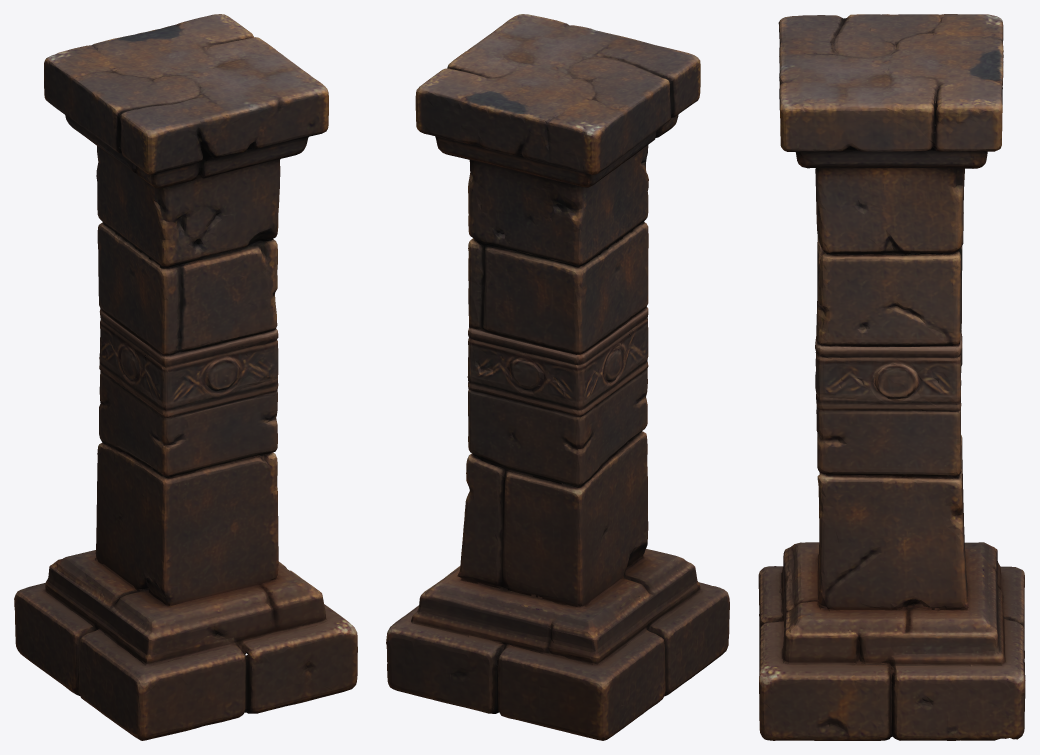
Rendered from source.glb.
3 views of the same model, side by side, from view 1: azimuth 30°, elevation 25°; view 2: azimuth 150°, elevation 25°; view 3: azimuth 270°, elevation 25° (orthographic). The views are drawn at different scales.
Parts seen in each view (by area): view 1: world; view 2: world; view 3: world.
Part boxes in pixels (box(x1,y1,x2,y2)): world: box(14, 14, 357, 740); world: box(386, 14, 729, 740); world: box(758, 14, 1025, 740).
Bounding box in the file's own units: 0.3833 × 0.9955 × 0.3828.
1 material, 1 textured.
